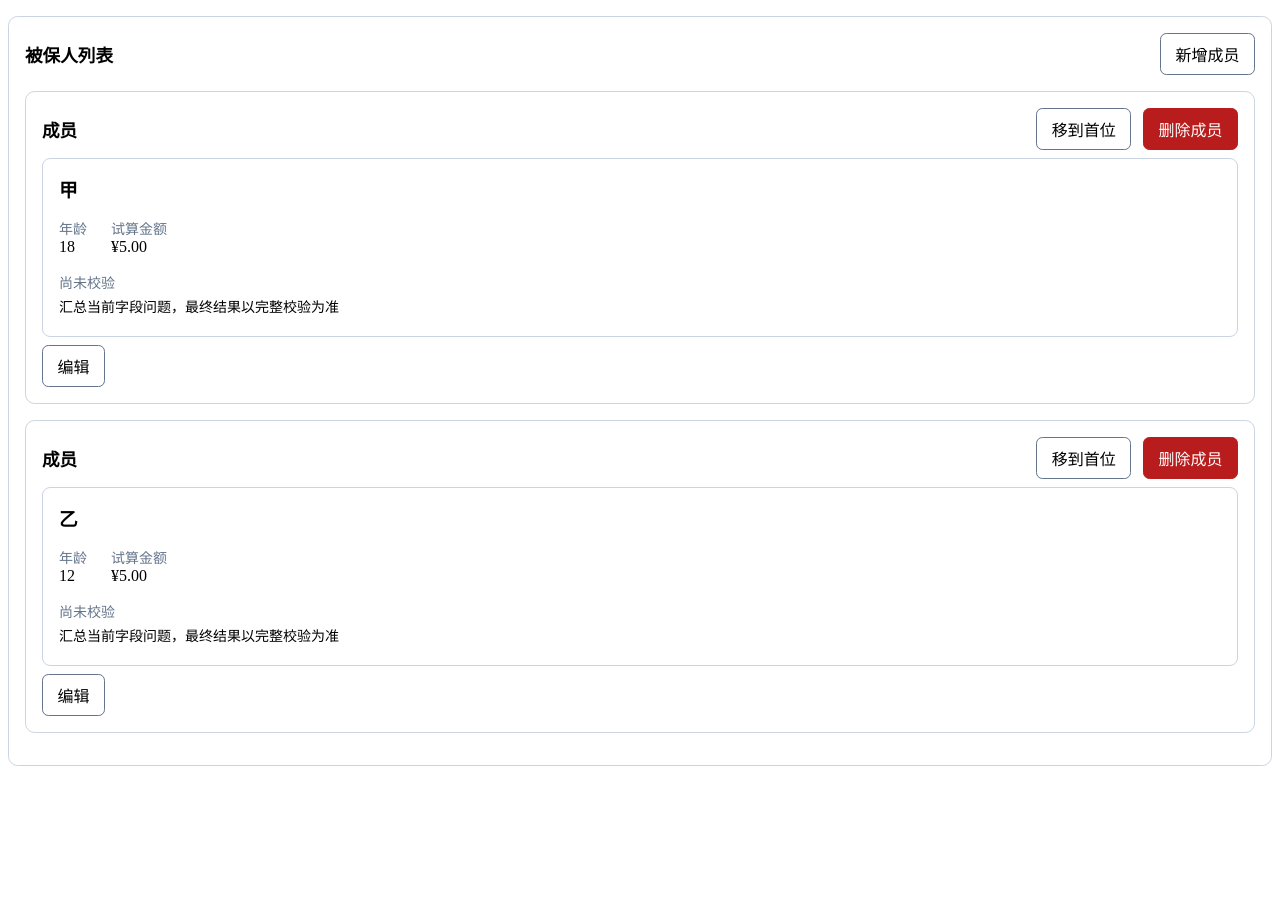
Test: keeps an open editor attached to its member after moving and removes its portal on delete
Later steps or results of the test are not shown.
Click the button "编辑" below "12" at [73, 695], box [42, 674, 105, 716]
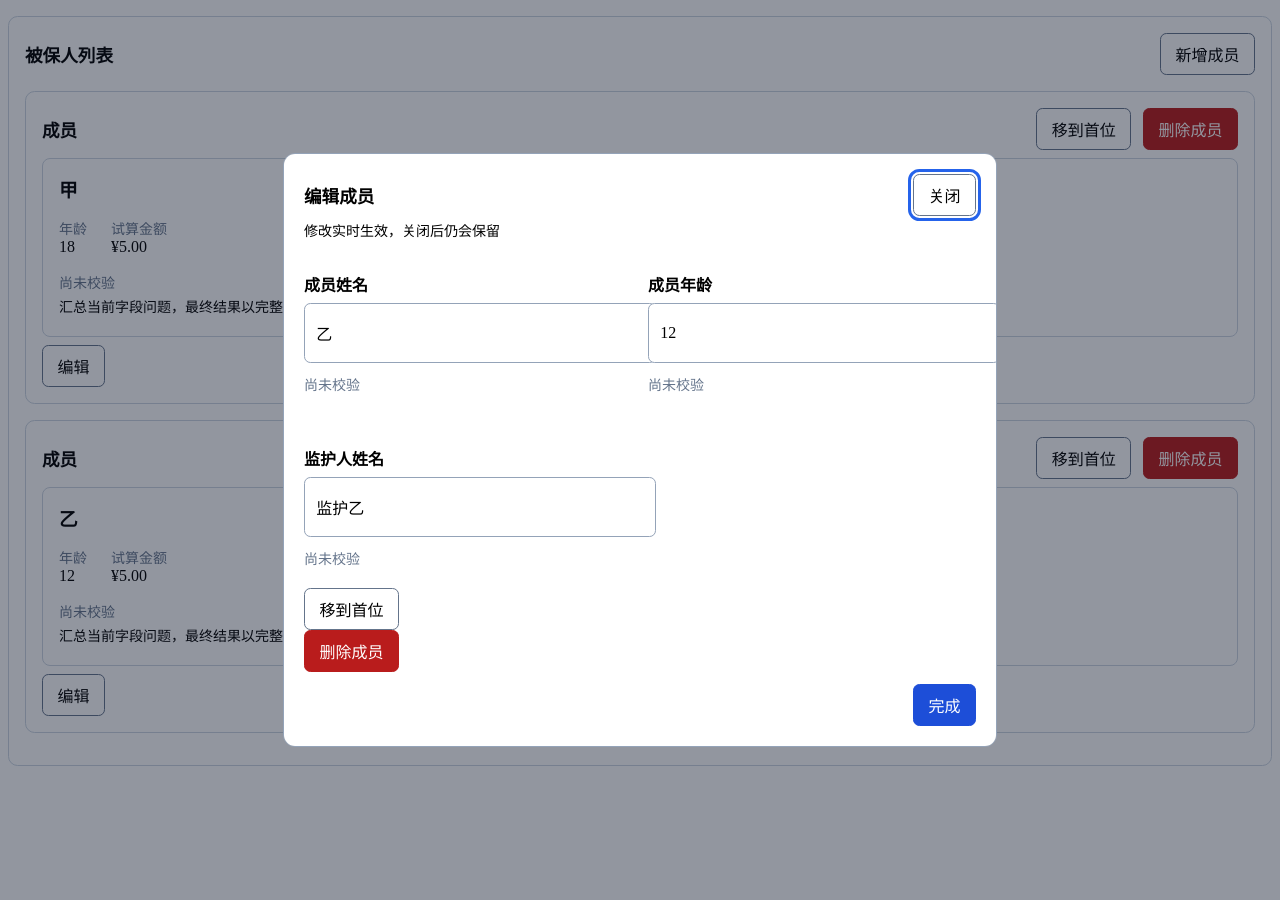
Replace the text in the field labelled "成员姓名" with "乙已编辑" at [480, 333], box [304, 303, 656, 363]
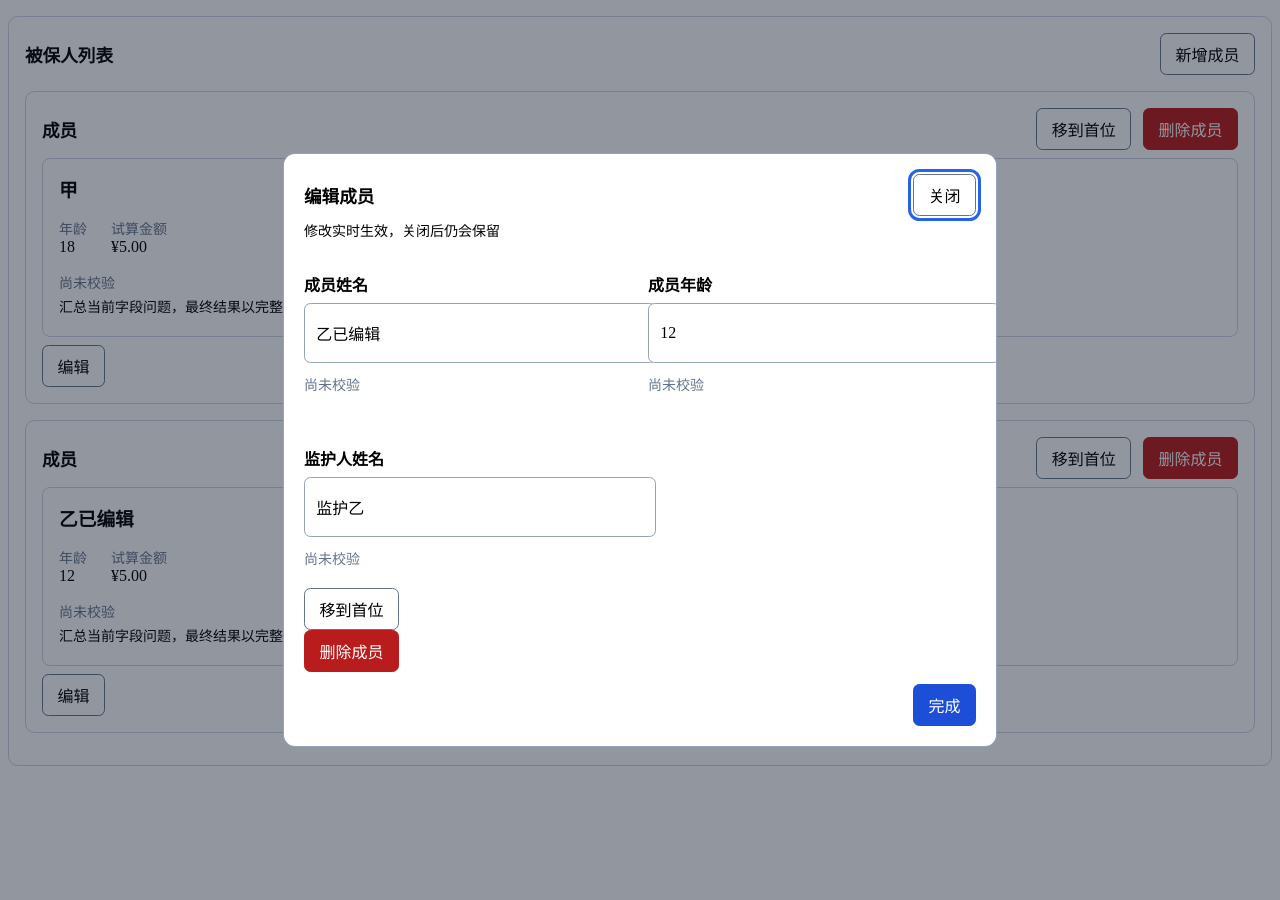
Click the button "移到首位" at [351, 609], box [304, 588, 399, 630]
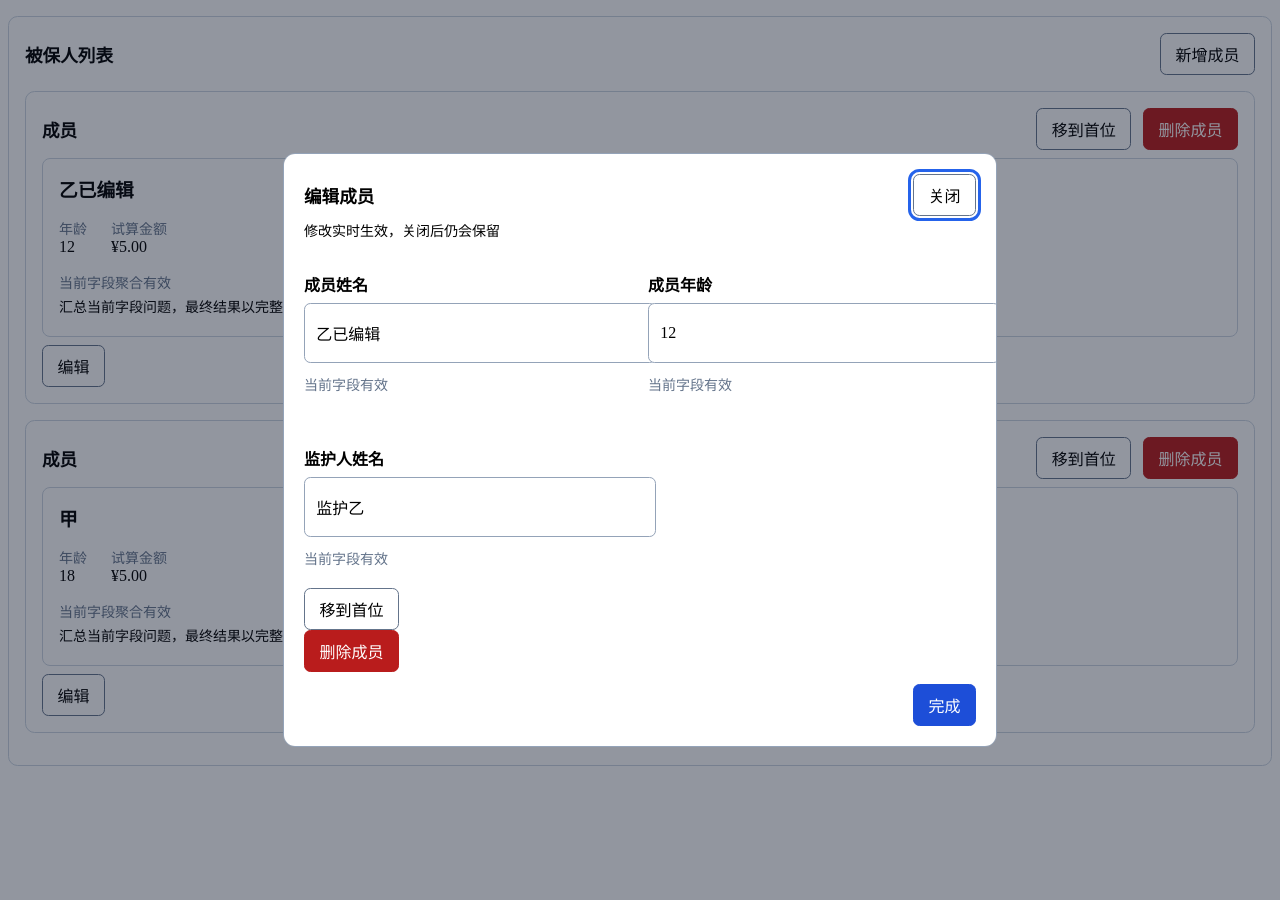
Click the button "删除成员" at [351, 651], box [304, 630, 399, 672]
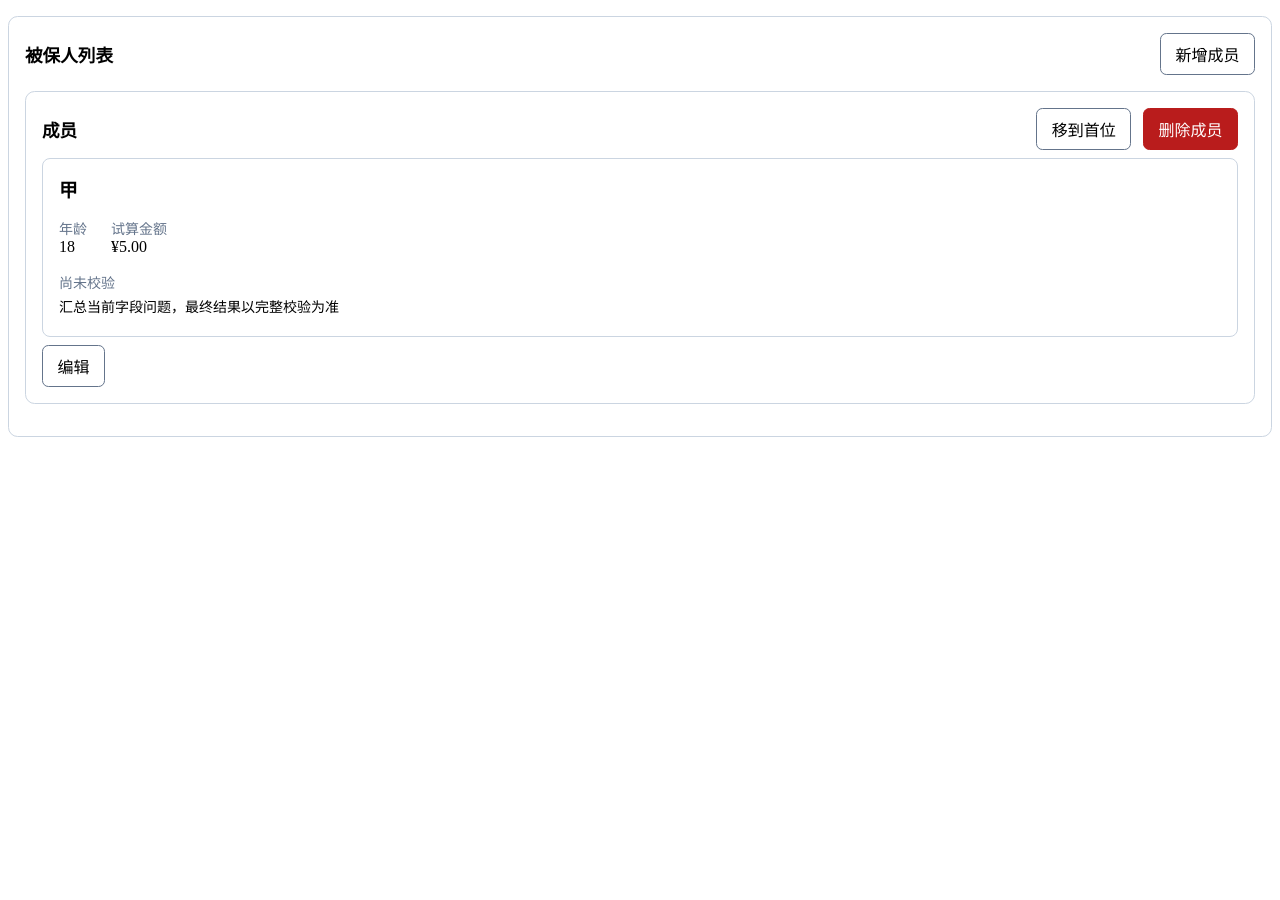
Check: the dialog is gone
